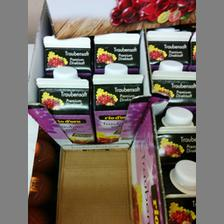Saft: (35, 67, 93, 143), (92, 63, 144, 143)
